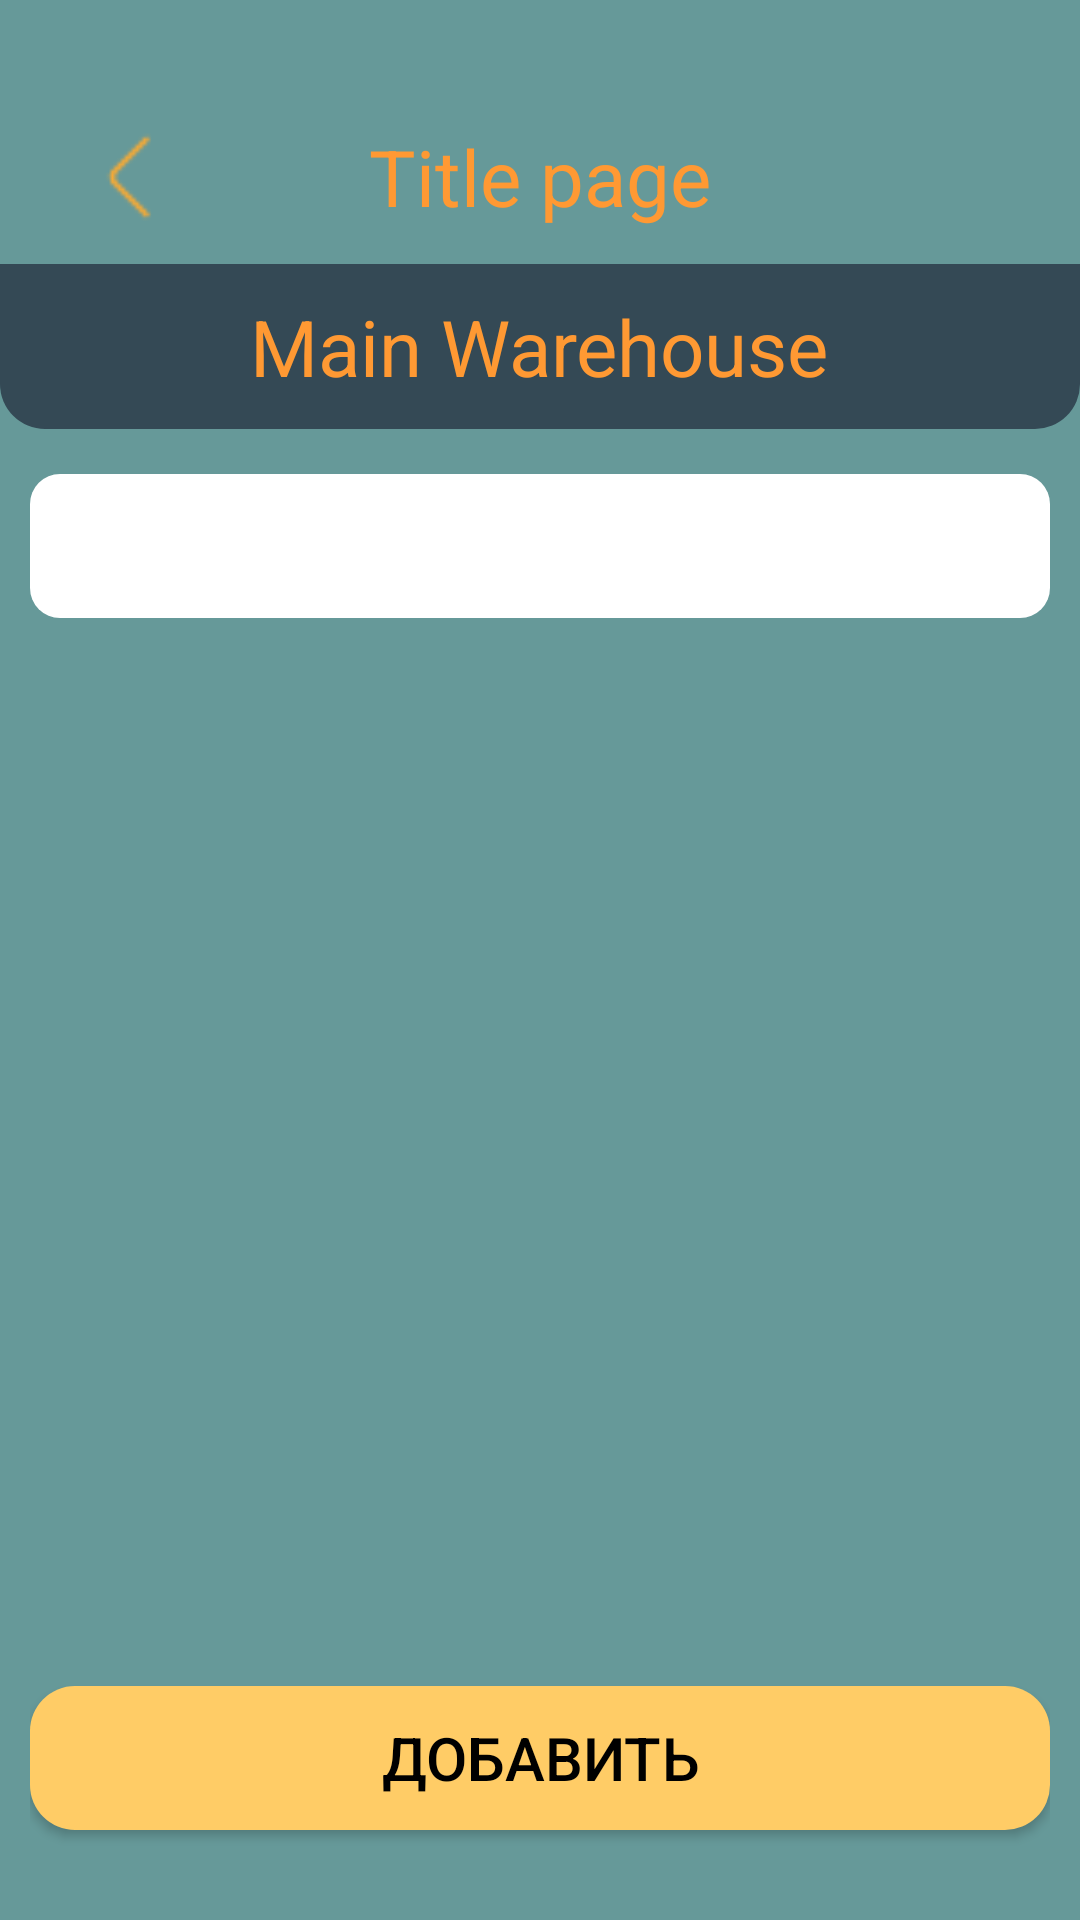

Screen size 1080 x 1920. Icon name, then its center in pixels as (x,y):
return: (129,177)
